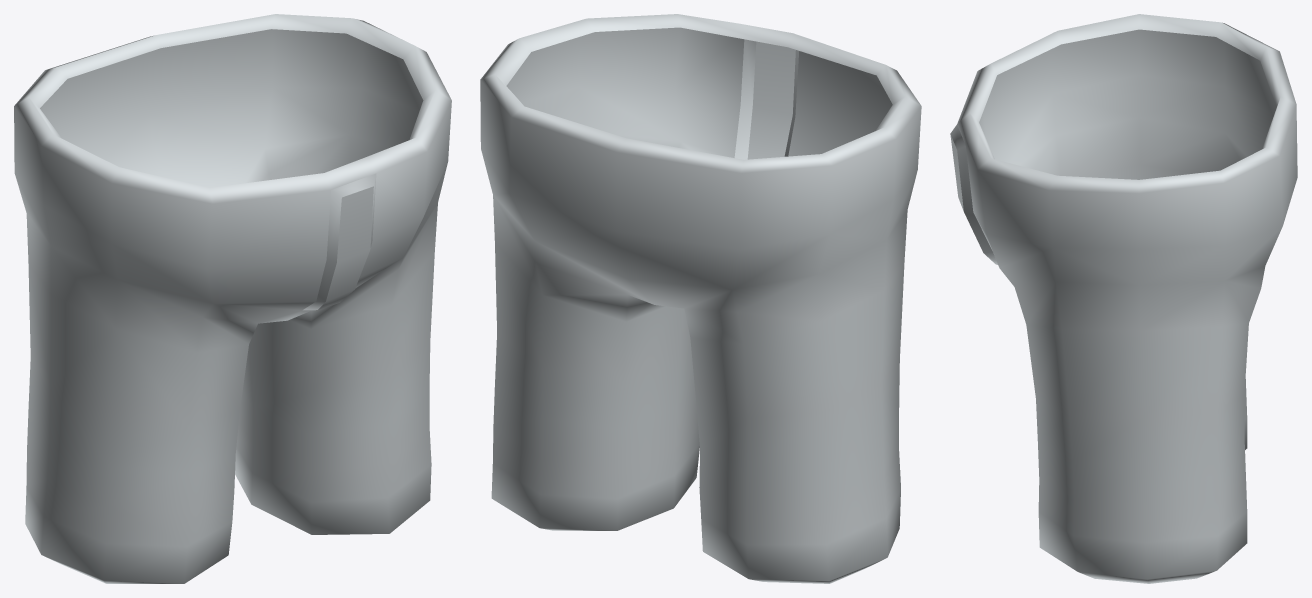
The model's file is Bottom_28.fbx.
3 renders of one model, left to right at view 1: azimuth 30°, elevation 25°; view 2: azimuth 150°, elevation 25°; view 3: azimuth 270°, elevation 25°, orthographic. The views are drawn at different scales.
Parts seen in each view (by area): view 1: Bottom_28; view 2: Bottom_28; view 3: Bottom_28.
Part boxes in pixels (bbox=[...]): Bottom_28: bbox=[14, 14, 451, 583]; Bottom_28: bbox=[480, 14, 921, 583]; Bottom_28: bbox=[950, 14, 1297, 583].
Bounding box in the file's own units: 38.42 × 42.06 × 31.97.
